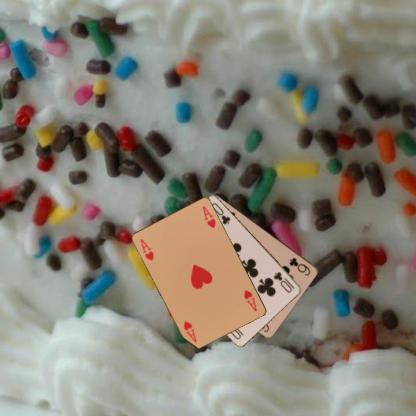10c: (271, 269, 296, 294)
6c: (287, 255, 312, 277)
Ah: (138, 236, 156, 262), (242, 287, 258, 313)
